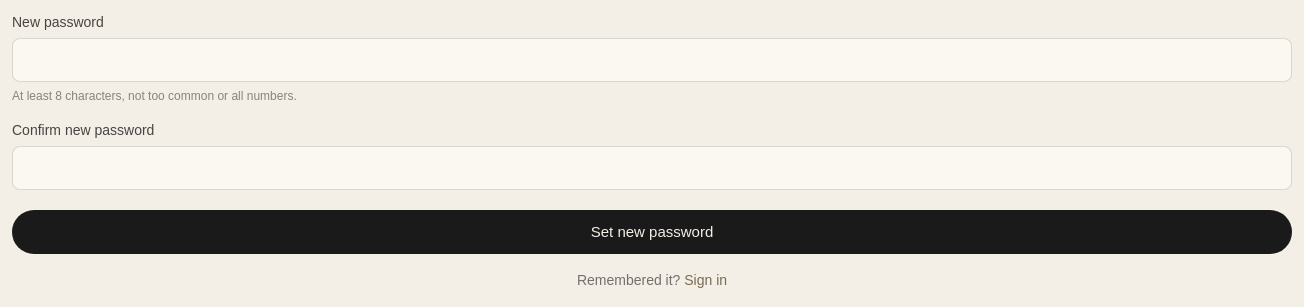
Test case: Password reset › shows server password rules and handles a dead link
The image size is (1304, 307).
Type "password123" into the password field labelled "New password" at (652, 60), box x1=12 y1=38 x2=1292 y2=82
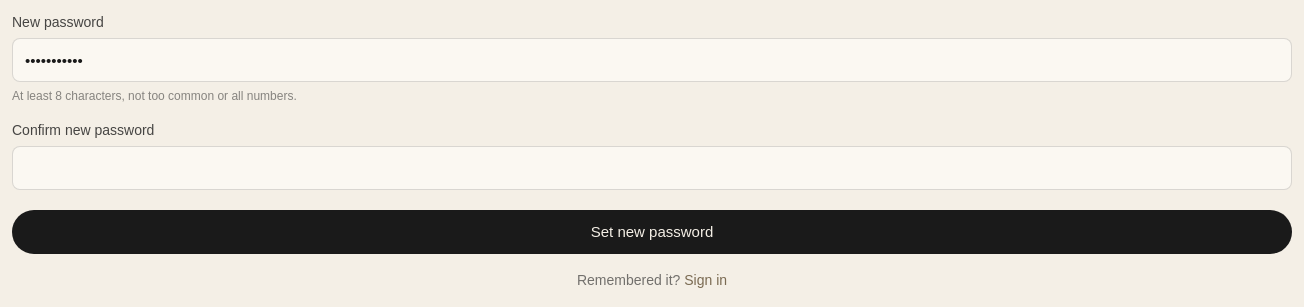
Type "password123" into the password field labelled "Confirm new password" at (652, 168), box x1=12 y1=146 x2=1292 y2=190
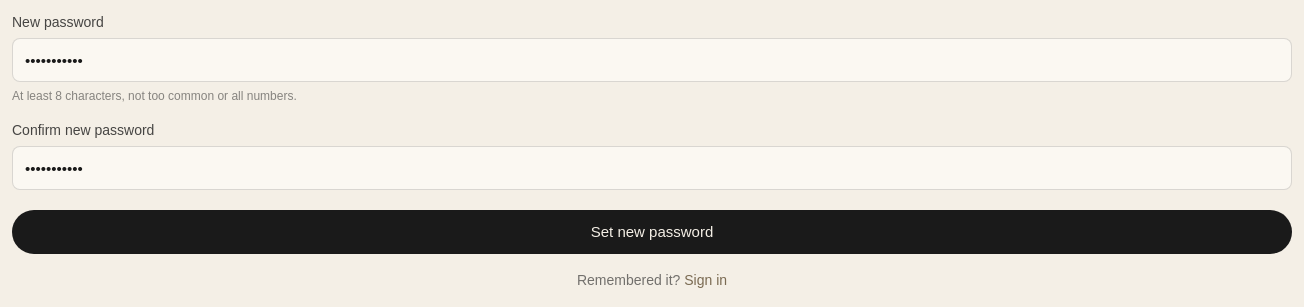
Submit the form
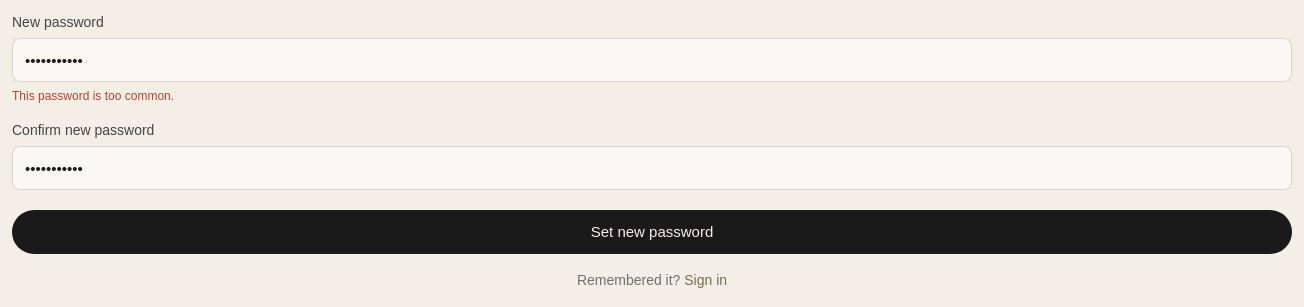
Result: the form shows "This password is too common." at x1=12 y1=89 x2=174 y2=103
Submit the form
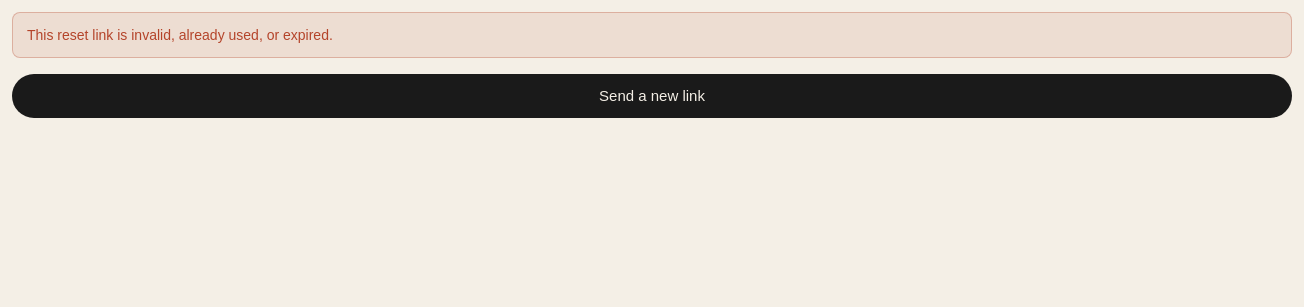
Result: the message "This reset link is invalid, already used, or expired. Send a new link" is shown at x1=12 y1=12 x2=1292 y2=118
